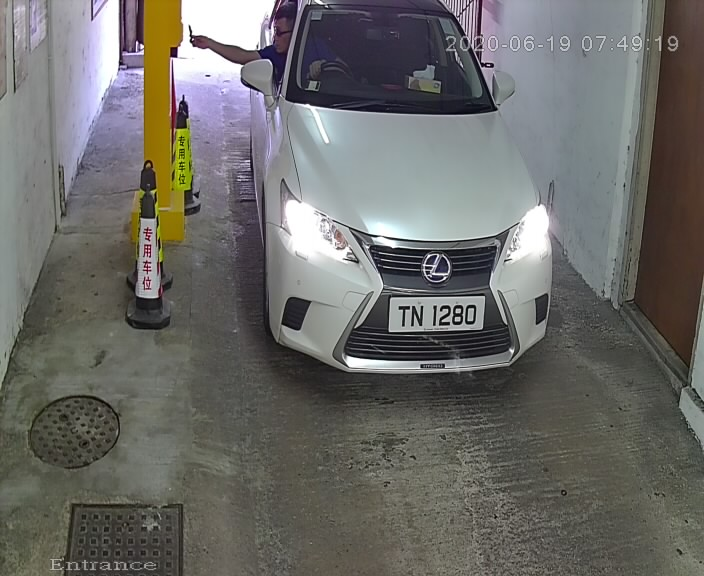privatecar: (238, 3, 562, 382)
